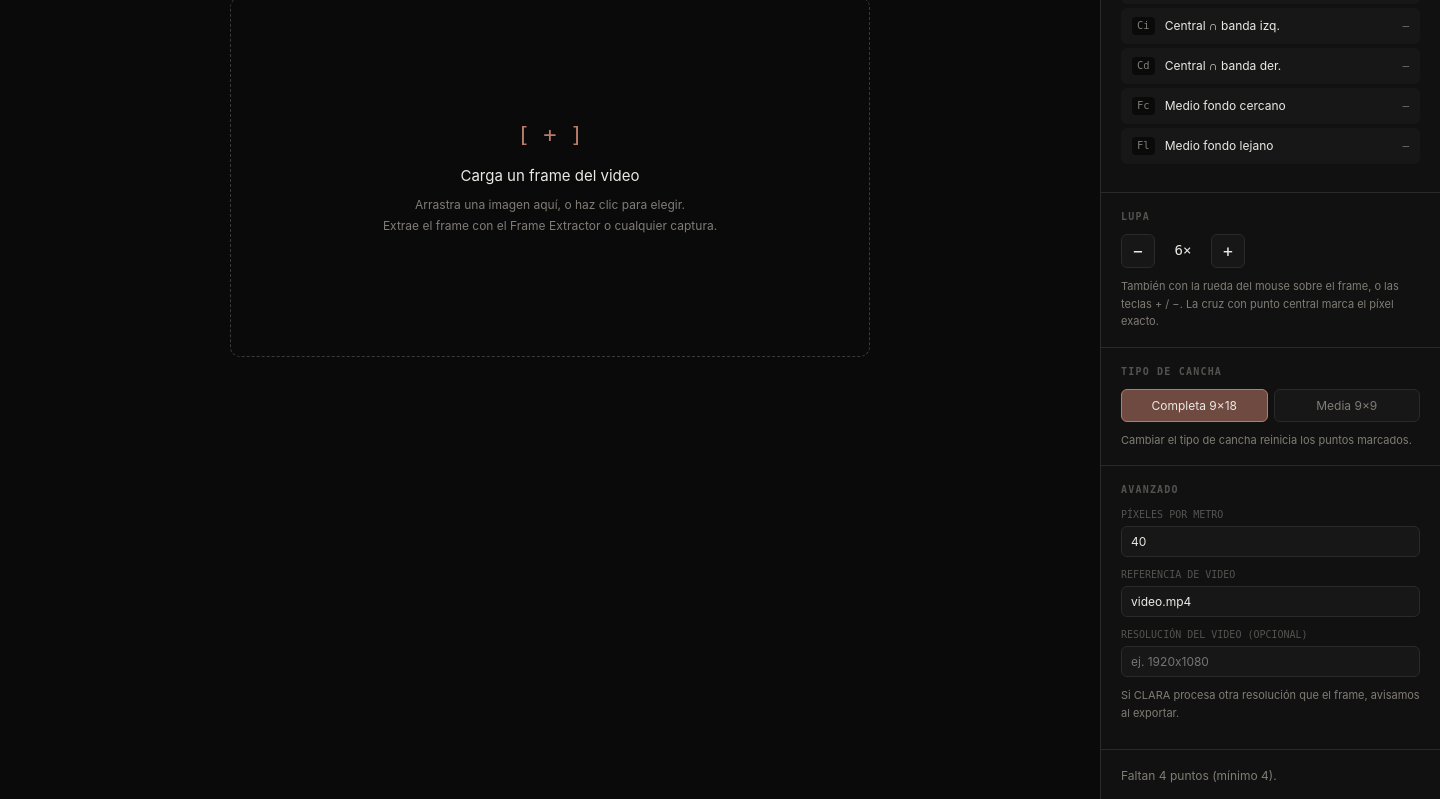
Calibrator — puntos de referencia flexibles › cambiar a media cancha cambia el catálogo de puntos
(page scrolled)
Expected: the text "Central ∩ banda izq." is shown, [1165, 18, 1280, 33]
Click the button "Media 9×9": (1347, 405) [1274, 389, 1420, 422]
(page scrolled)
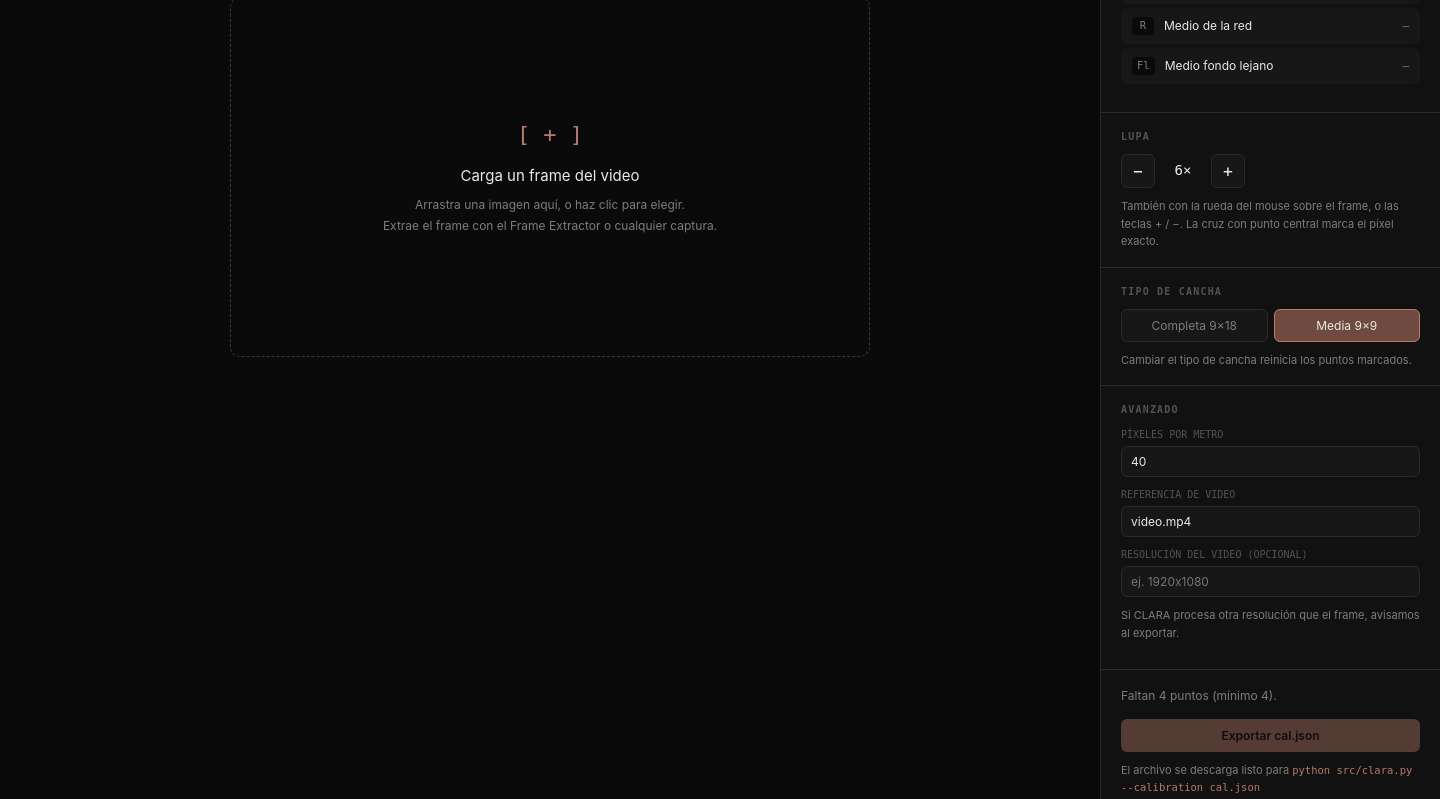
Now the text "Central ∩ banda izq." is gone
Now the text "Medio de la red" is shown, box [1164, 18, 1252, 33]
